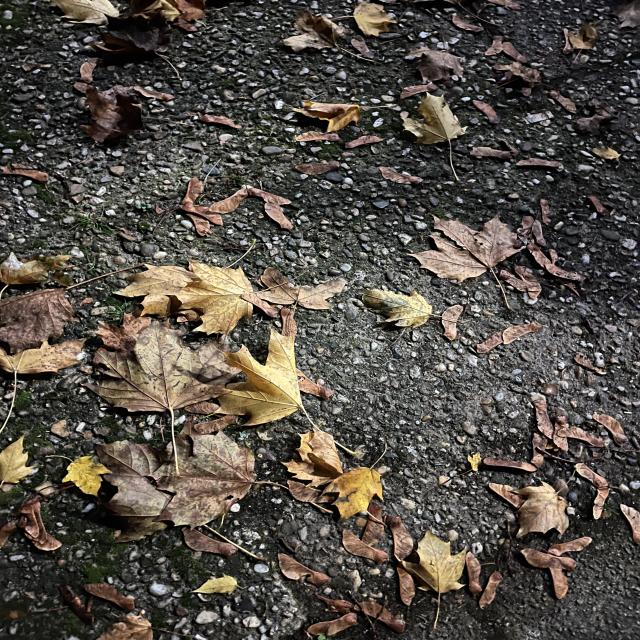leaves: (277, 419, 640, 635), (0, 258, 308, 428), (0, 431, 269, 610), (395, 210, 564, 302), (76, 0, 174, 133), (160, 175, 315, 247), (359, 280, 461, 340), (282, 13, 413, 53), (285, 95, 363, 152), (407, 40, 482, 85), (397, 96, 446, 142), (550, 27, 604, 56), (10, 161, 58, 183)
